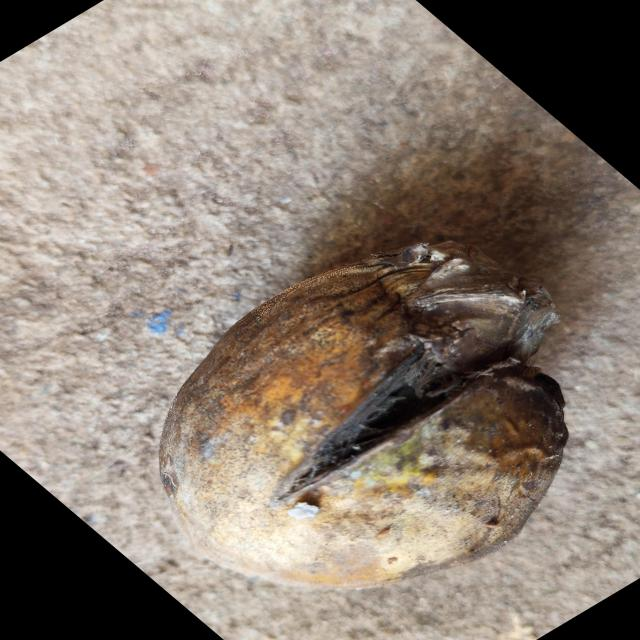damaged: (160, 246, 570, 591)
